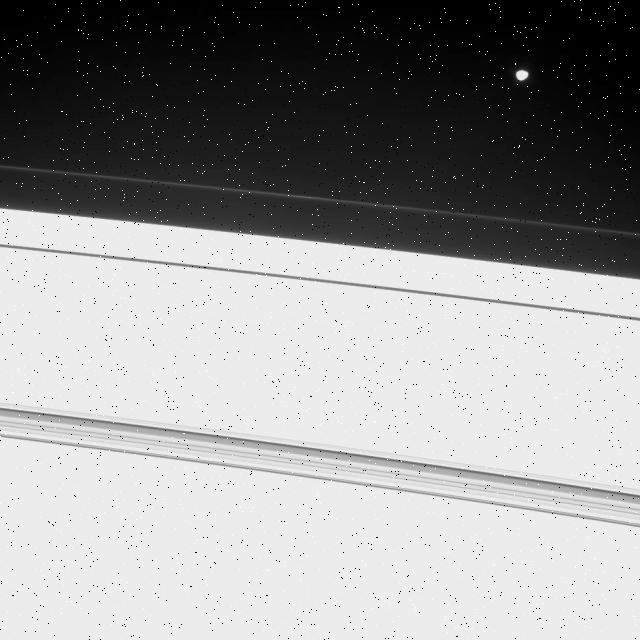Saturn: (0, 156, 640, 640)
